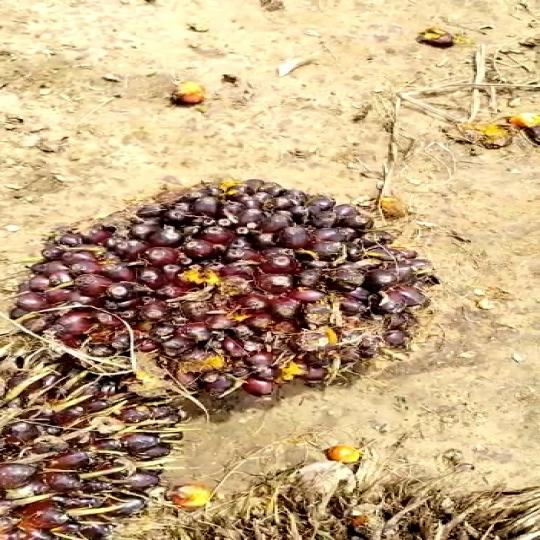kurang masak: (0, 182, 460, 415), (0, 347, 222, 540)
